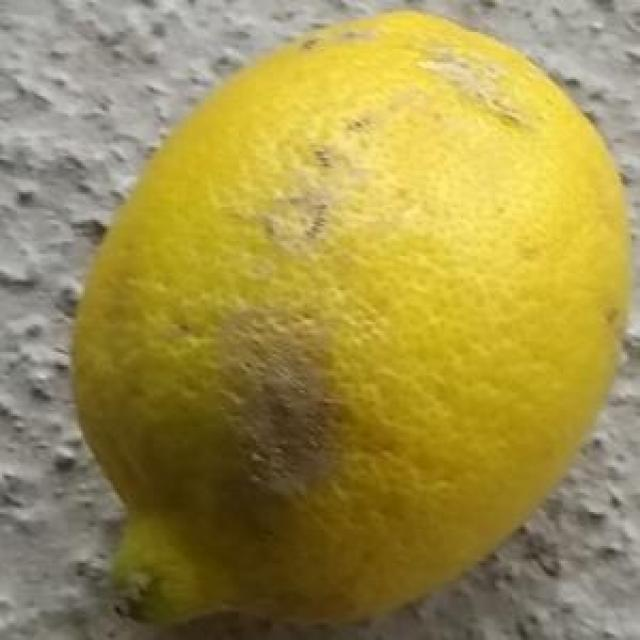lemon: (70, 12, 638, 640)
